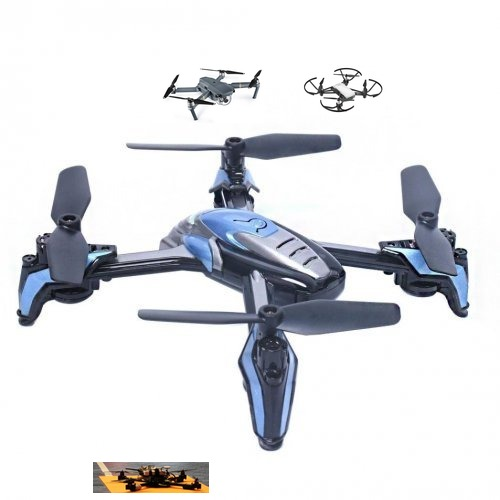drone: (11, 134, 471, 450), (160, 65, 264, 123), (300, 65, 385, 115), (93, 462, 209, 493)
